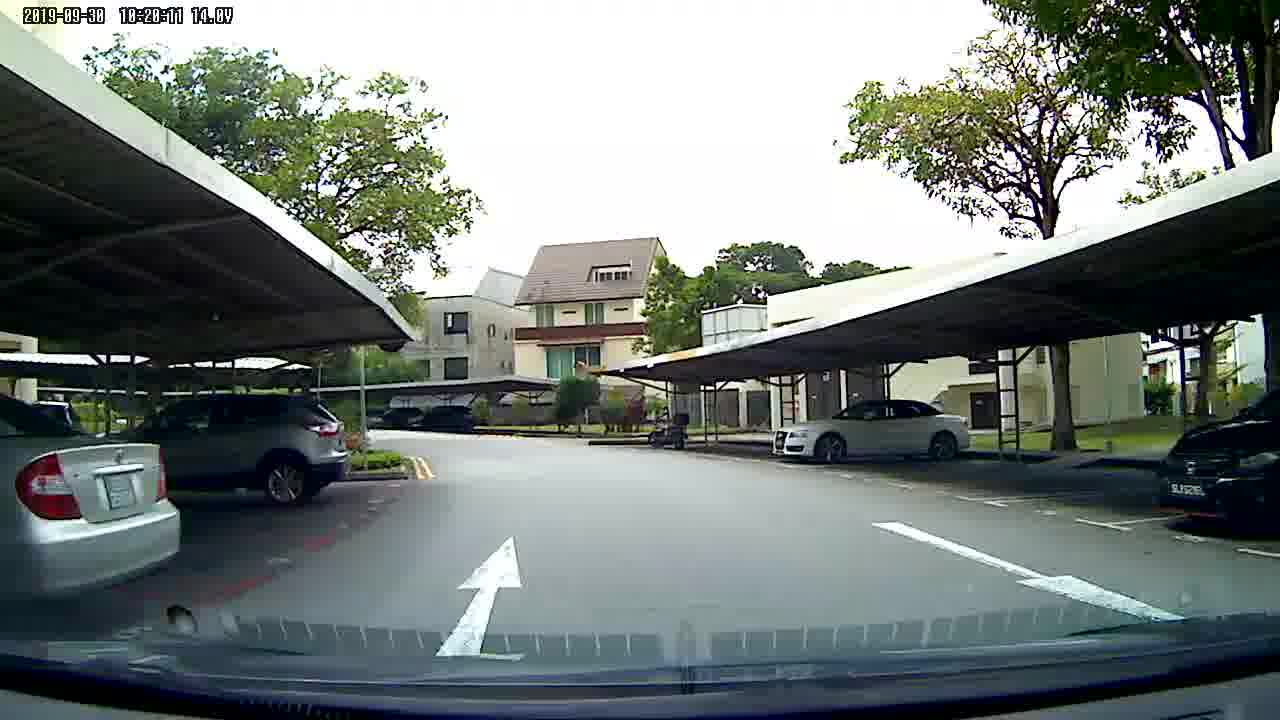car: (1, 393, 194, 620), (89, 387, 360, 516), (763, 391, 985, 482), (1134, 386, 1280, 522)
